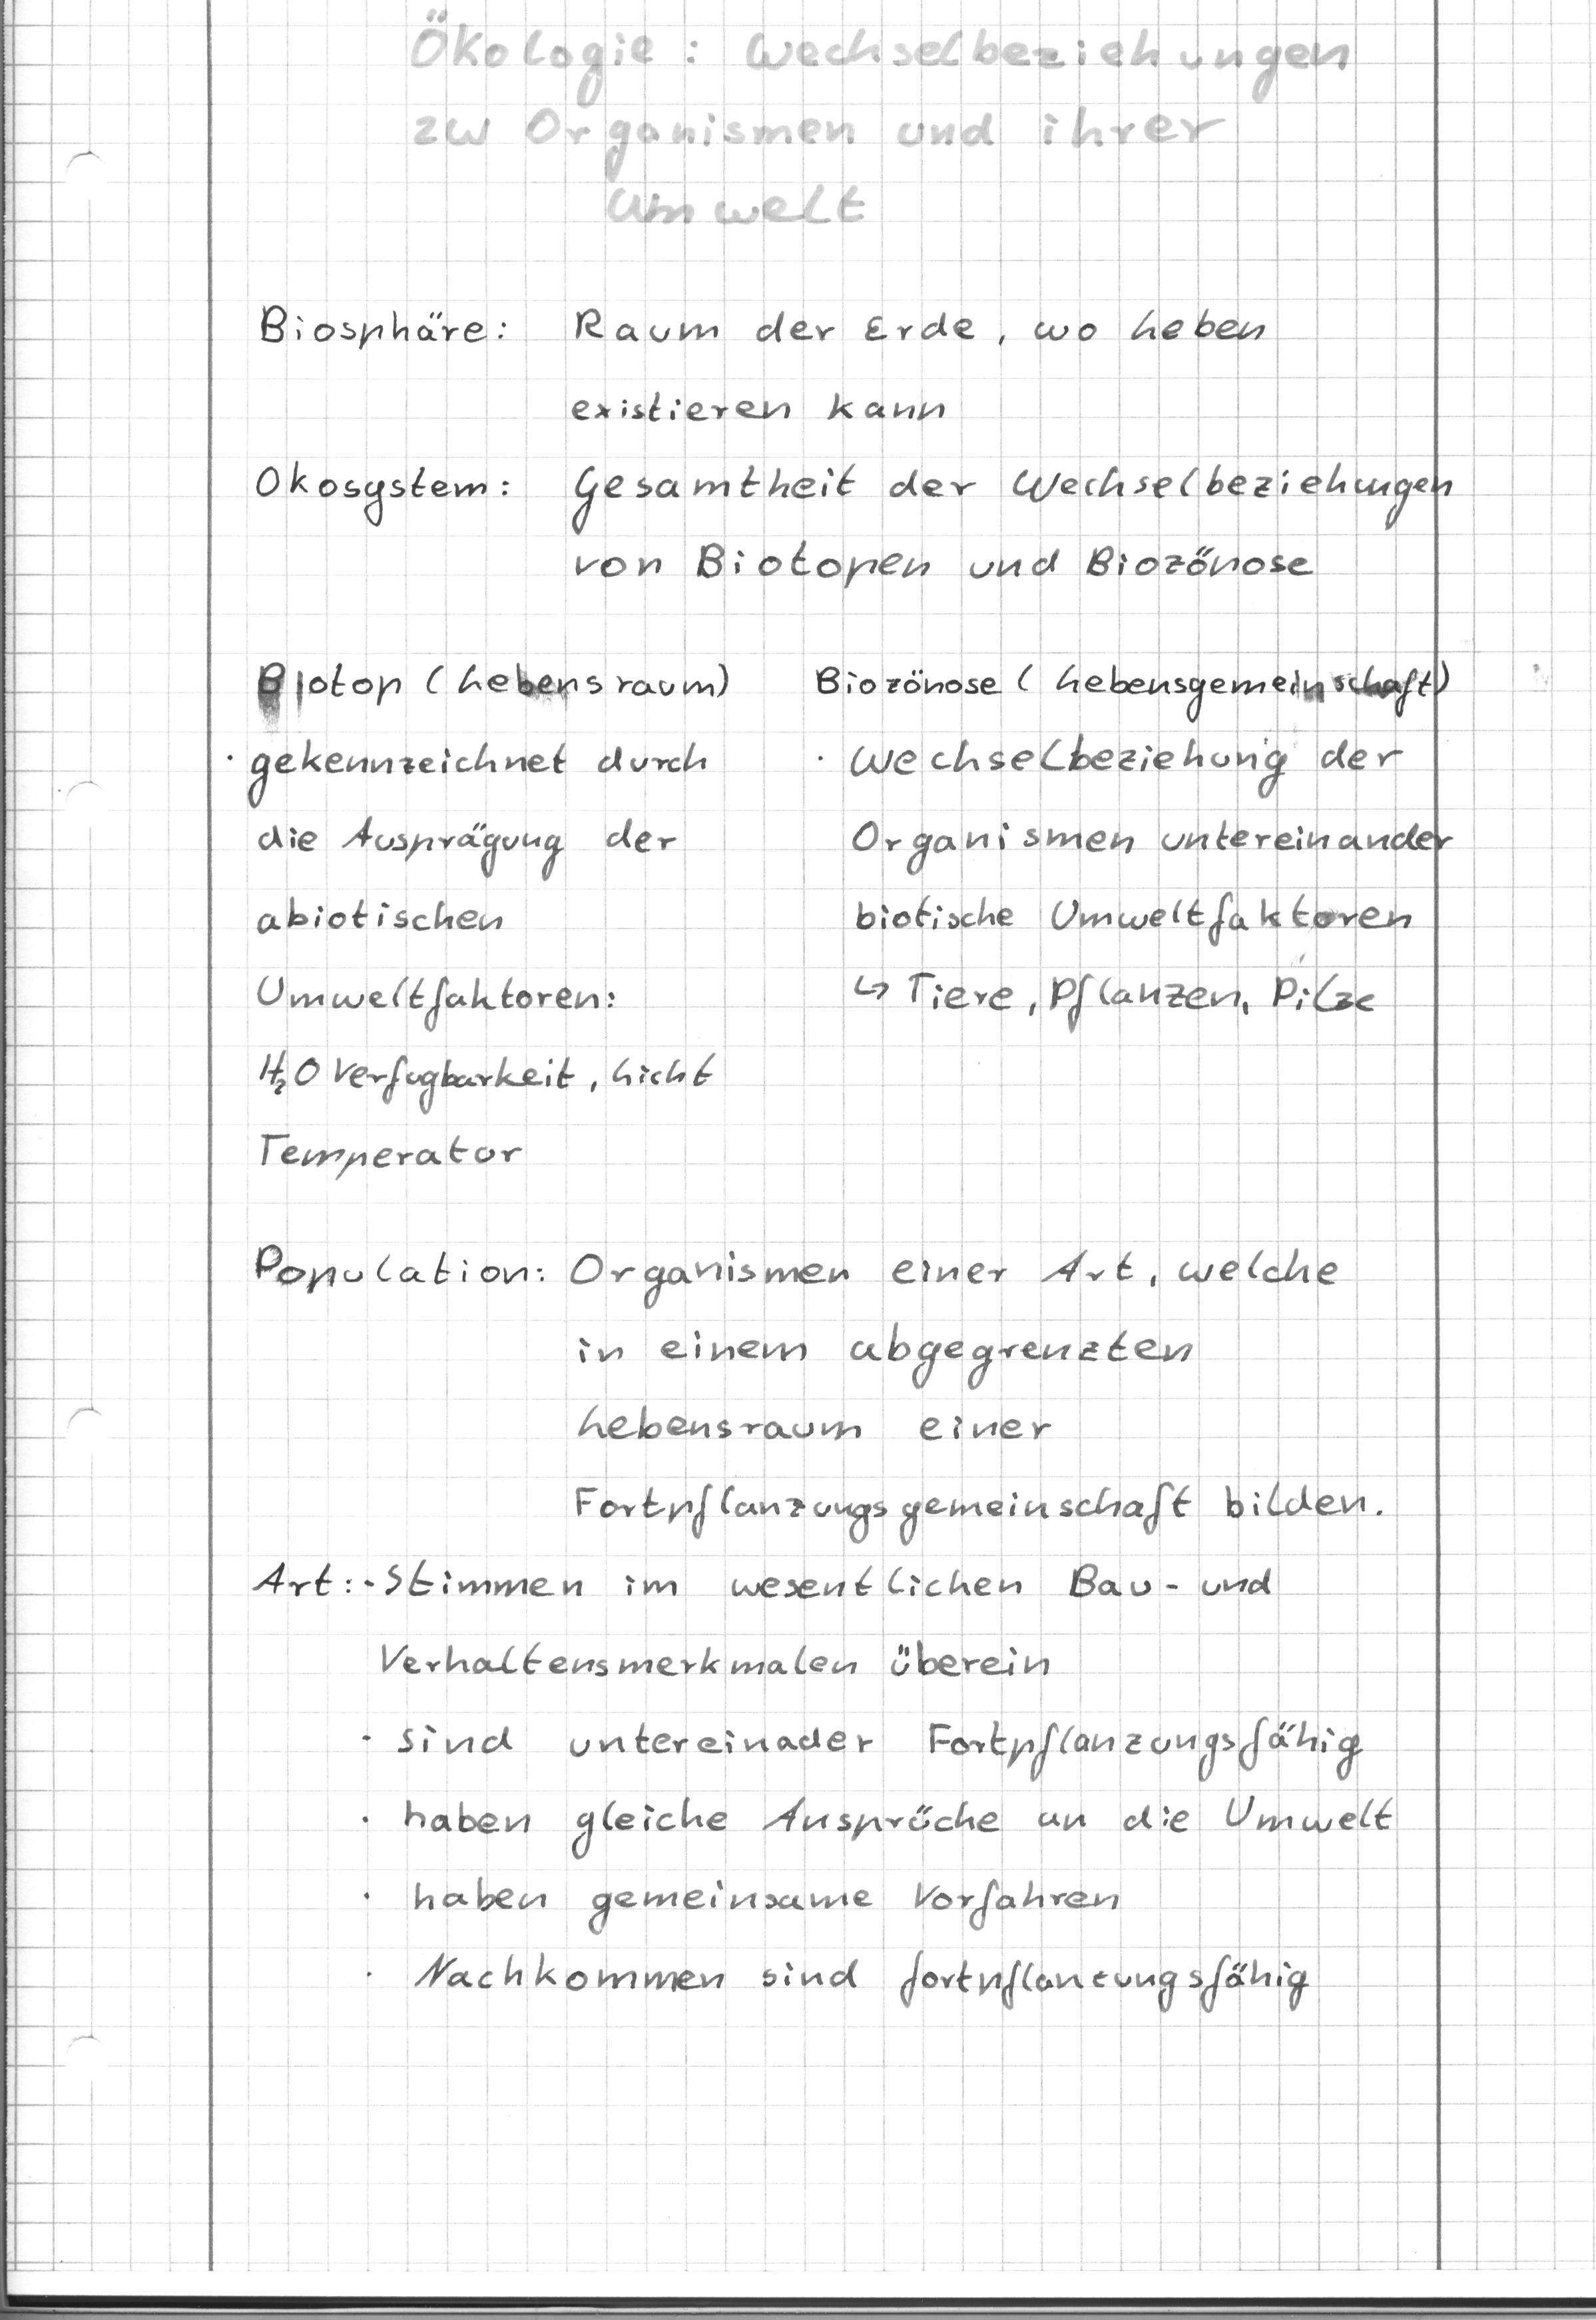word: (355, 1552, 1406, 2034), (555, 1225, 1397, 1553), (216, 732, 743, 1188), (804, 730, 1456, 1045), (560, 449, 1462, 605), (563, 290, 1282, 439)
